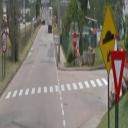preferencia: (110, 50, 126, 108)
speed_limit_60: (2, 30, 8, 56)
